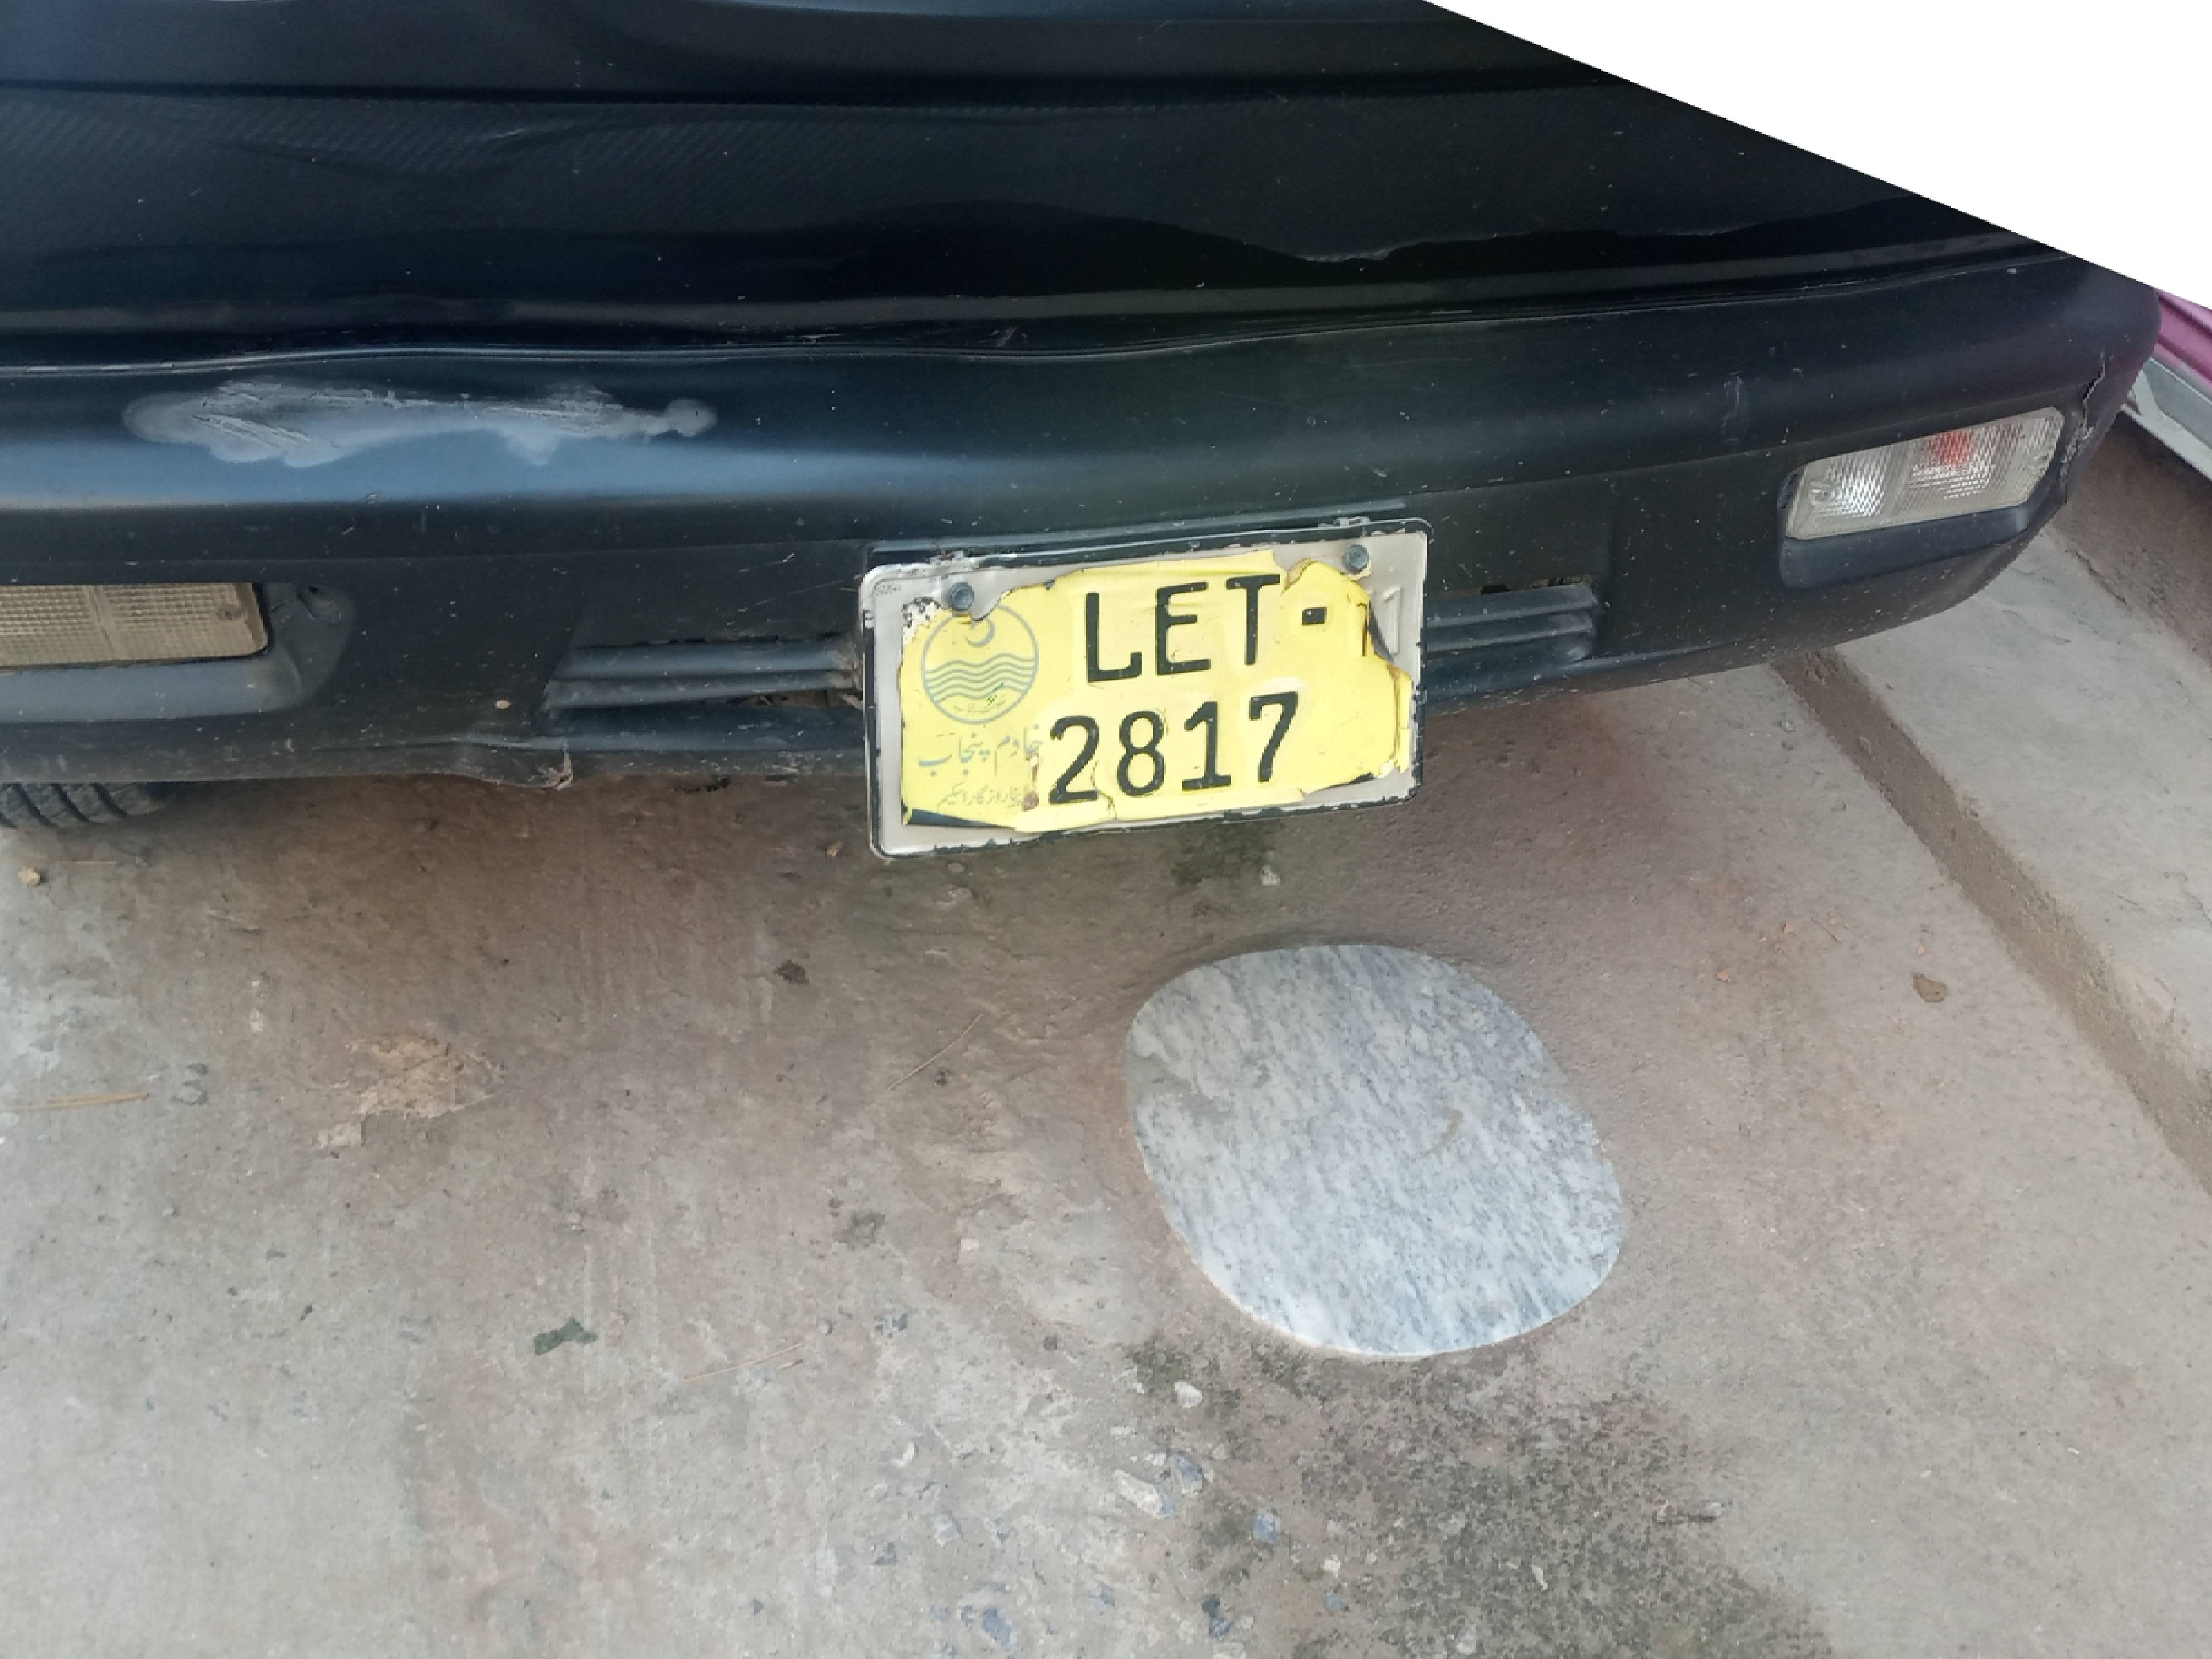number_plate: (881, 550, 1464, 828)
